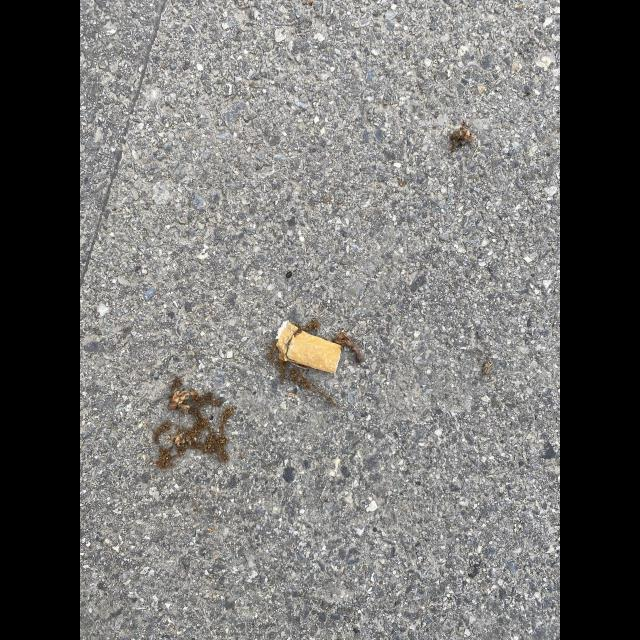cigarette: (275, 319, 341, 375)
